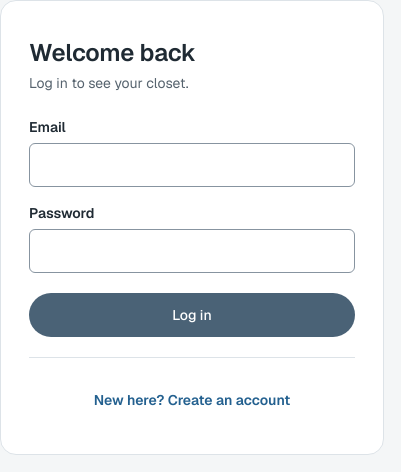
Test: AuthForm › disables button while loading
Type "x@x.com" into the field labelled "Email" at (192, 165), box [29, 143, 355, 187]
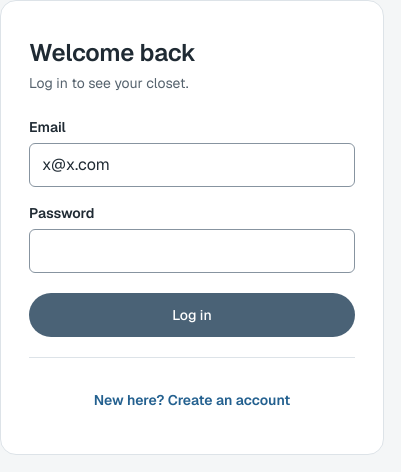
Type "pass" into the password field labelled "Password" at (192, 251), box [29, 229, 355, 273]
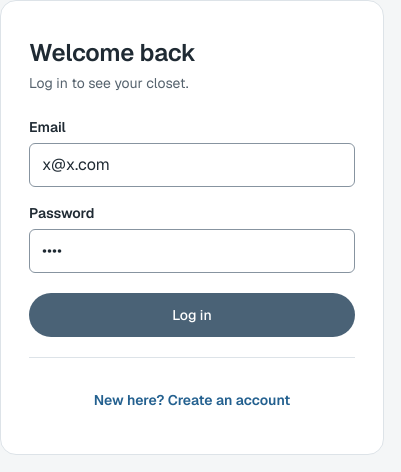
Click the button "Log in" at (192, 315), box [29, 293, 355, 337]
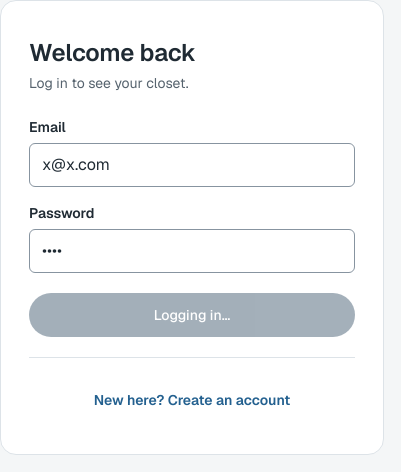
Check: the button "Logging in…" is disabled, box [29, 293, 355, 337]
